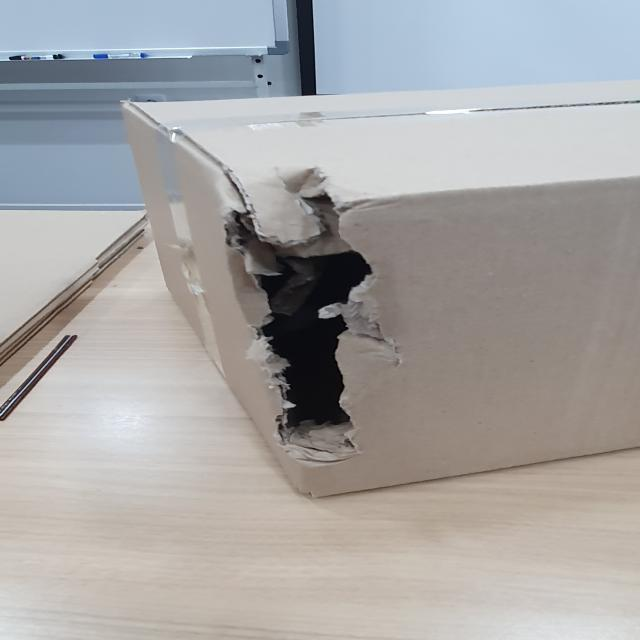hole: (206, 199, 382, 448)
